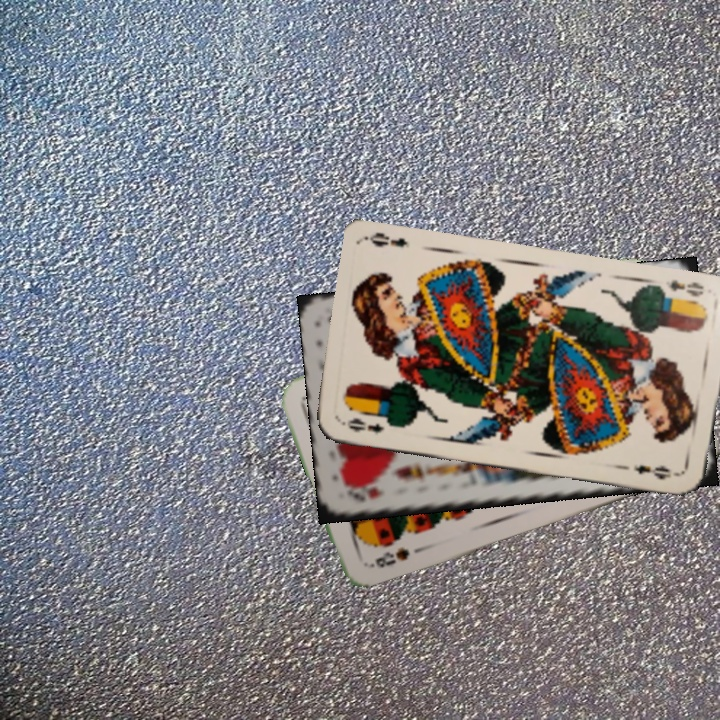EO: (337, 413, 387, 436), (661, 275, 707, 299)
HK: (343, 483, 387, 505)
S8: (365, 543, 412, 571)
